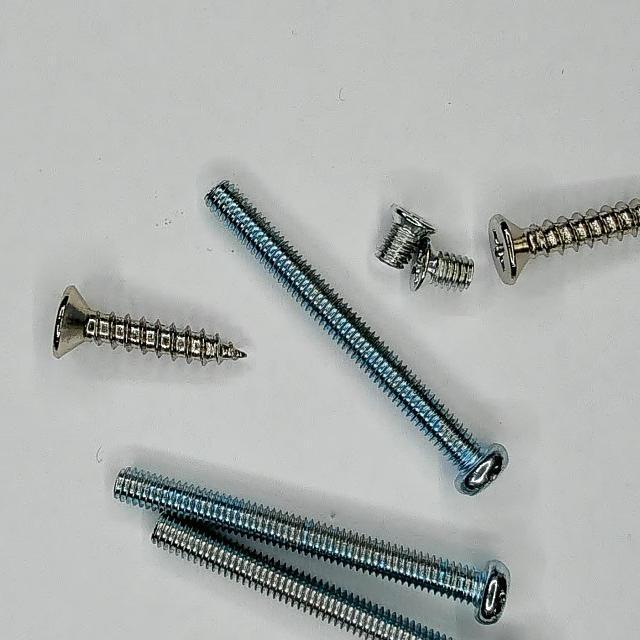Screw: (206, 181, 509, 496), (114, 468, 511, 626), (151, 515, 452, 640), (52, 286, 246, 364), (490, 200, 640, 284), (376, 205, 436, 268), (412, 242, 474, 291)
